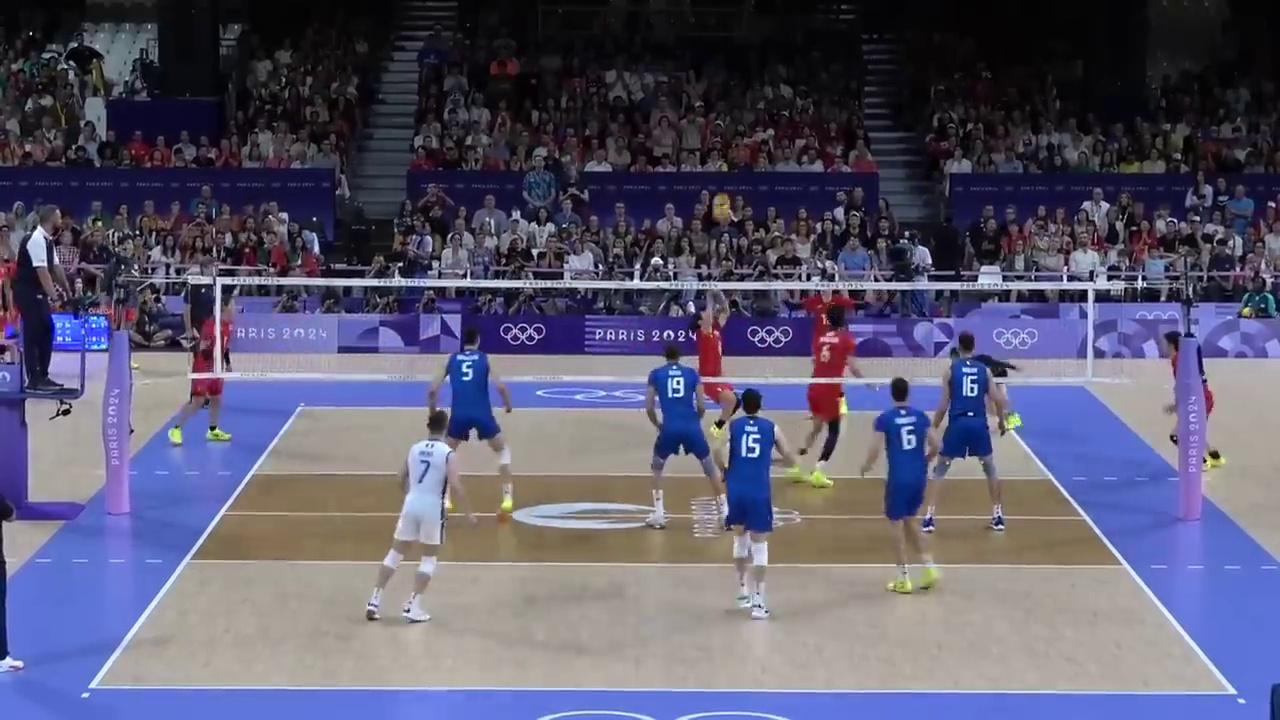ball: (714, 195, 729, 220)
